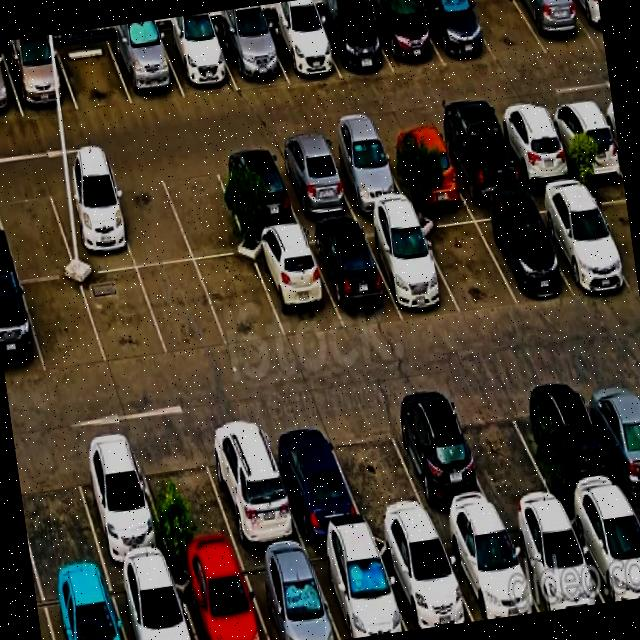empty: (19, 466, 100, 594), (150, 456, 230, 574), (339, 431, 422, 543), (432, 216, 508, 316), (27, 278, 100, 375), (174, 154, 242, 256), (118, 164, 184, 269), (85, 263, 155, 362), (202, 249, 270, 344), (0, 190, 67, 283), (144, 257, 212, 347), (60, 26, 125, 116), (468, 0, 531, 58)
occupied: (210, 450, 296, 571), (400, 412, 480, 532), (84, 469, 166, 585), (284, 444, 358, 566), (531, 384, 604, 504), (465, 402, 539, 518), (553, 189, 626, 306), (378, 215, 450, 324), (494, 199, 564, 309), (53, 168, 128, 270), (391, 112, 458, 222), (451, 110, 518, 220), (392, 540, 472, 632), (322, 220, 390, 328), (458, 527, 534, 622), (258, 234, 329, 334), (325, 546, 400, 640), (220, 146, 292, 242), (505, 106, 570, 212), (558, 96, 622, 203), (526, 516, 597, 612), (256, 556, 335, 640), (334, 130, 397, 225), (184, 566, 264, 640), (114, 19, 176, 110), (591, 382, 640, 495), (284, 138, 344, 228), (585, 507, 640, 604), (272, 0, 331, 86), (168, 12, 228, 96), (221, 4, 280, 89), (320, 0, 383, 79), (7, 34, 66, 113), (119, 580, 194, 640), (374, 0, 434, 71), (46, 590, 129, 640), (425, 0, 483, 64), (0, 285, 38, 377), (515, 0, 576, 43), (0, 42, 11, 122)
